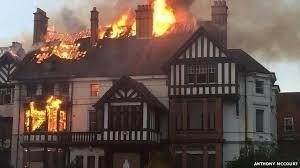fire: (94, 1, 181, 39), (32, 26, 89, 62), (22, 94, 67, 132), (97, 6, 138, 40), (150, 0, 177, 36)
